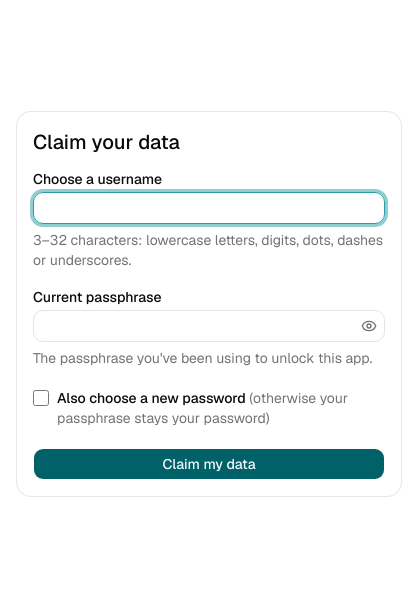
Test: claim page accessibility › has no violations when also choosing a new password
Click the checkbox labelled "Also choose a new password": {"x": 41, "y": 398} [33, 390, 49, 406]
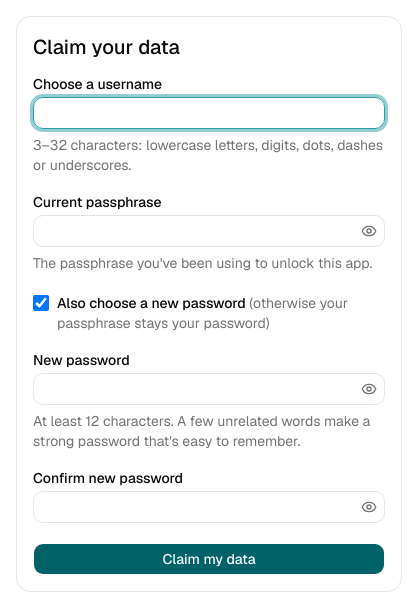
In the password field labelled "New password": {"x": 209, "y": 389} [33, 373, 385, 405], type "short"
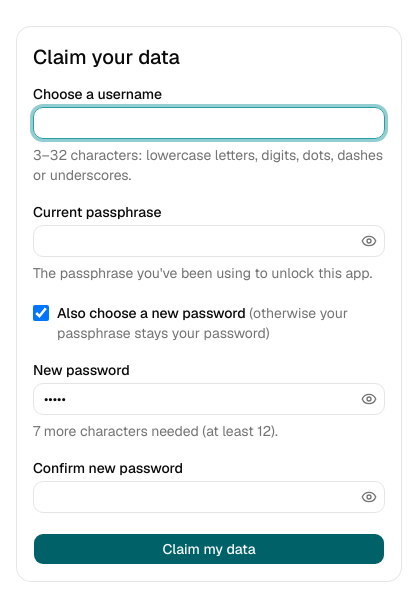
Now the text "7 more characters needed (at least 12)." is shown, box [33, 422, 278, 440]
